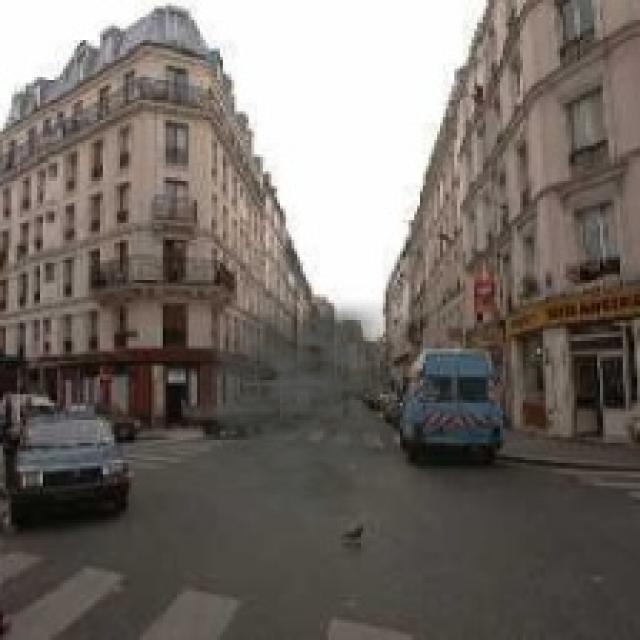Smoke: (171, 294, 406, 517)
